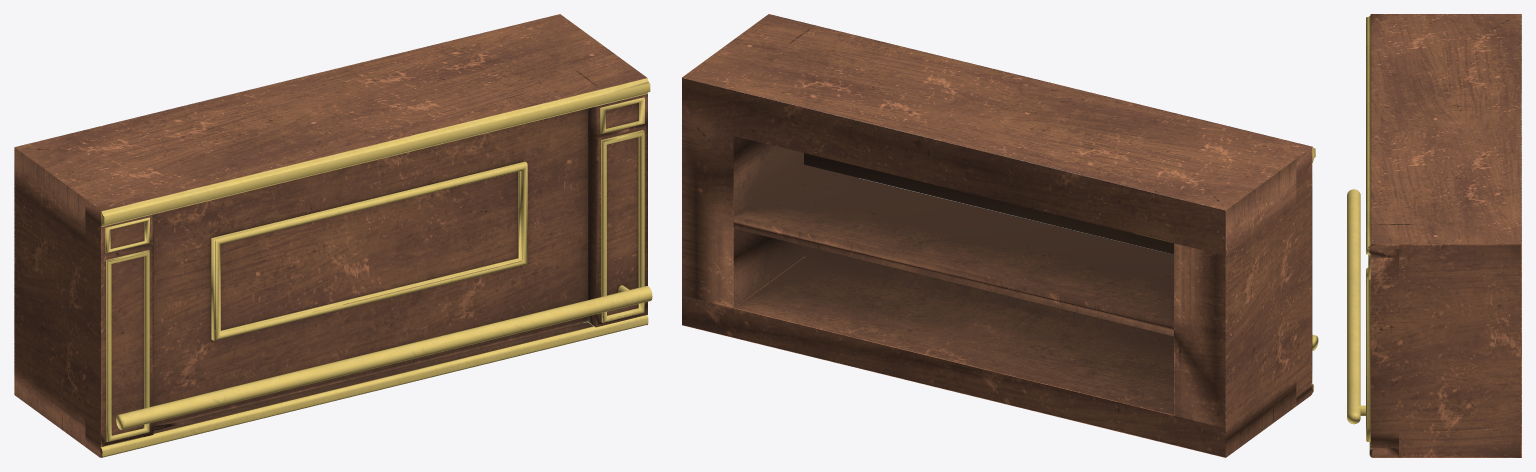
File: bar_counter.glb
3 renders of one model, left to right at view 1: azimuth 30°, elevation 25°; view 2: azimuth 150°, elevation 25°; view 3: azimuth 270°, elevation 25°, orthographic. The views are drawn at different scales.
Visible parts, largest first — view 1: polySurface2; view 2: polySurface2; view 3: polySurface2.
Boxes of the visible parts, x1,y1,x2,y2 form: polySurface2: (14,14,652,457); polySurface2: (682,14,1318,457); polySurface2: (1347,14,1521,457).
Size of the model in its own units: 2.54 by 1.1 by 0.8147.
Materials: 1 (1 with a texture image).
